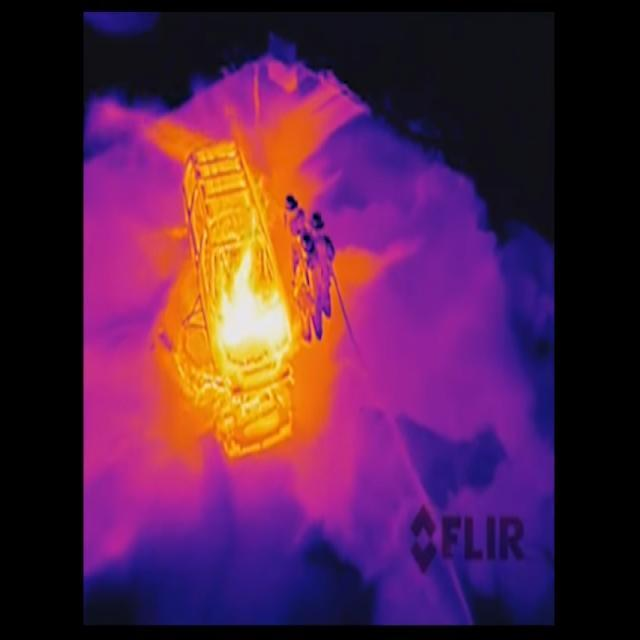fire: (215, 219, 298, 360)
